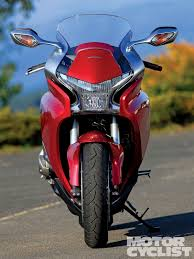bike: (12, 20, 179, 254)
